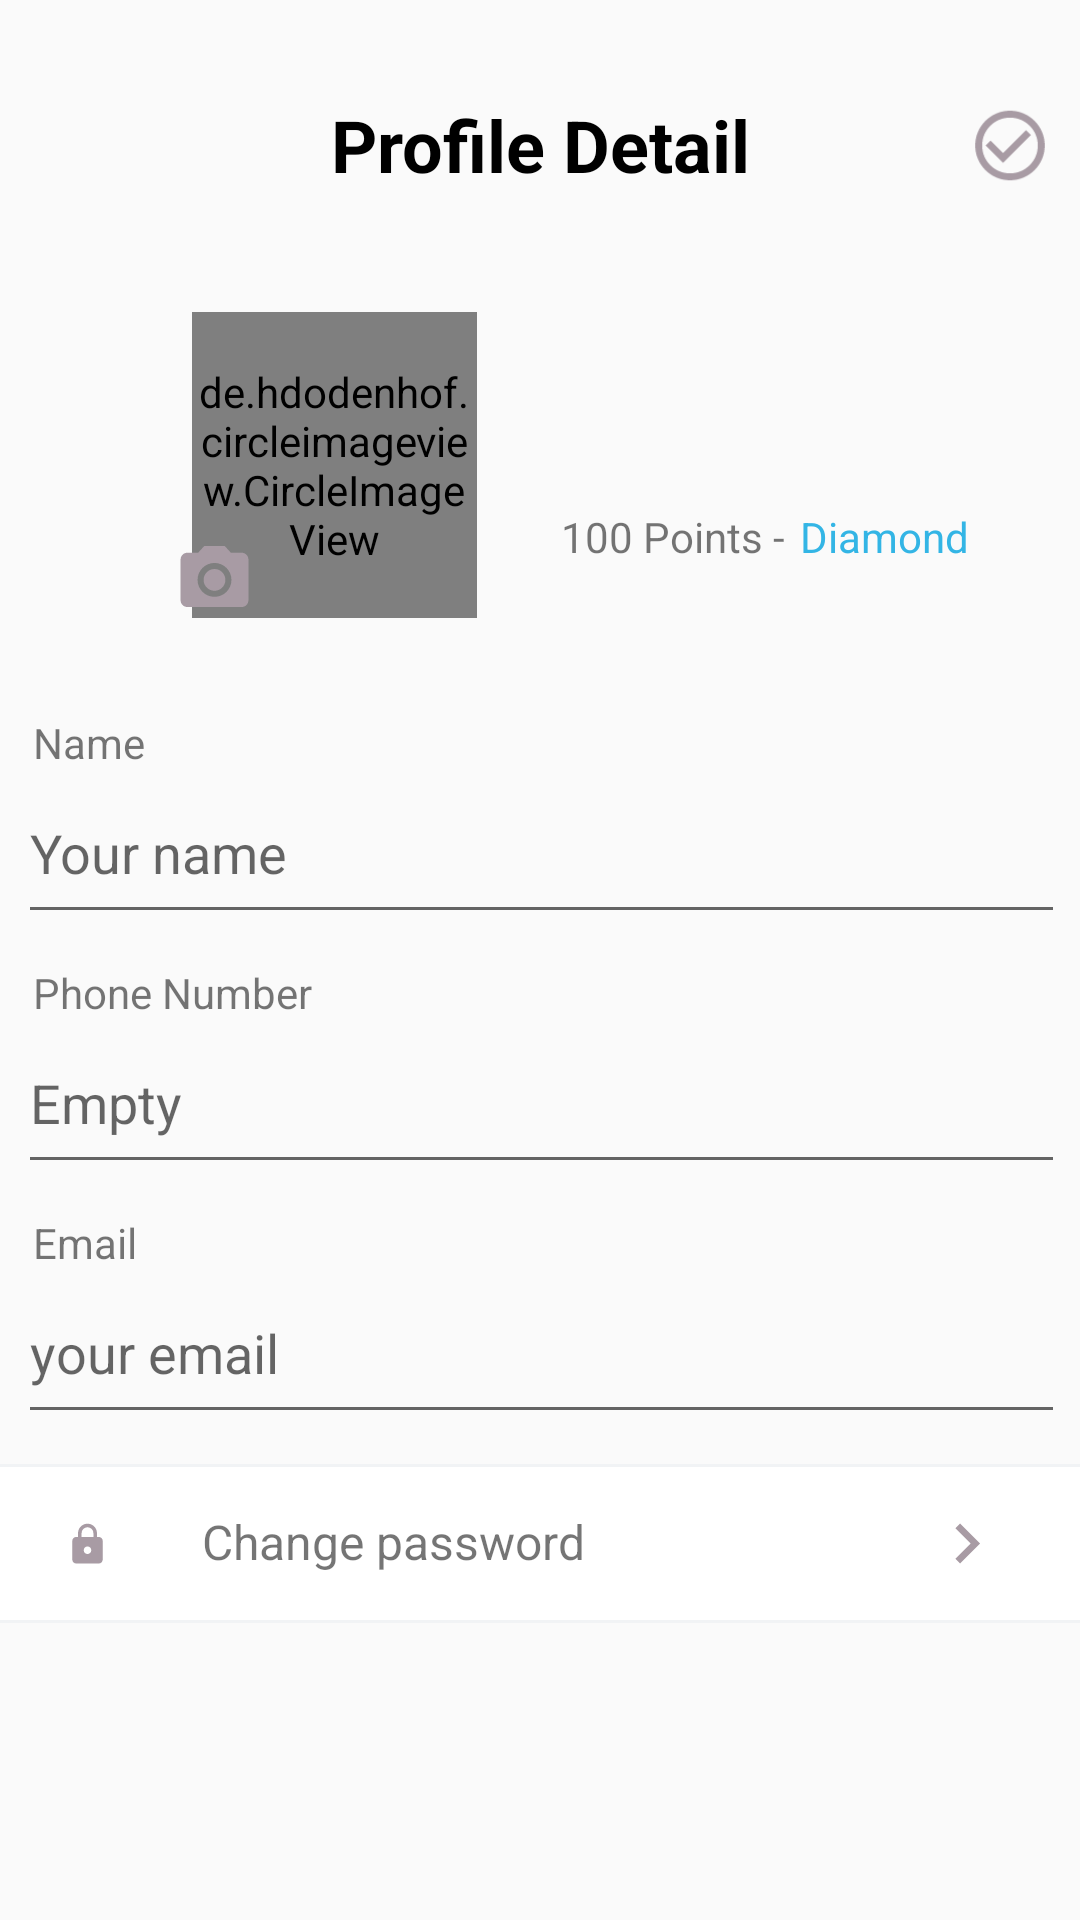

Icon bounding boxes for this 1080×1920 phone screenshot, format box(x1, y1, x2, y2):
camera: box(180, 507, 273, 618)
check: box(975, 110, 1045, 181)
